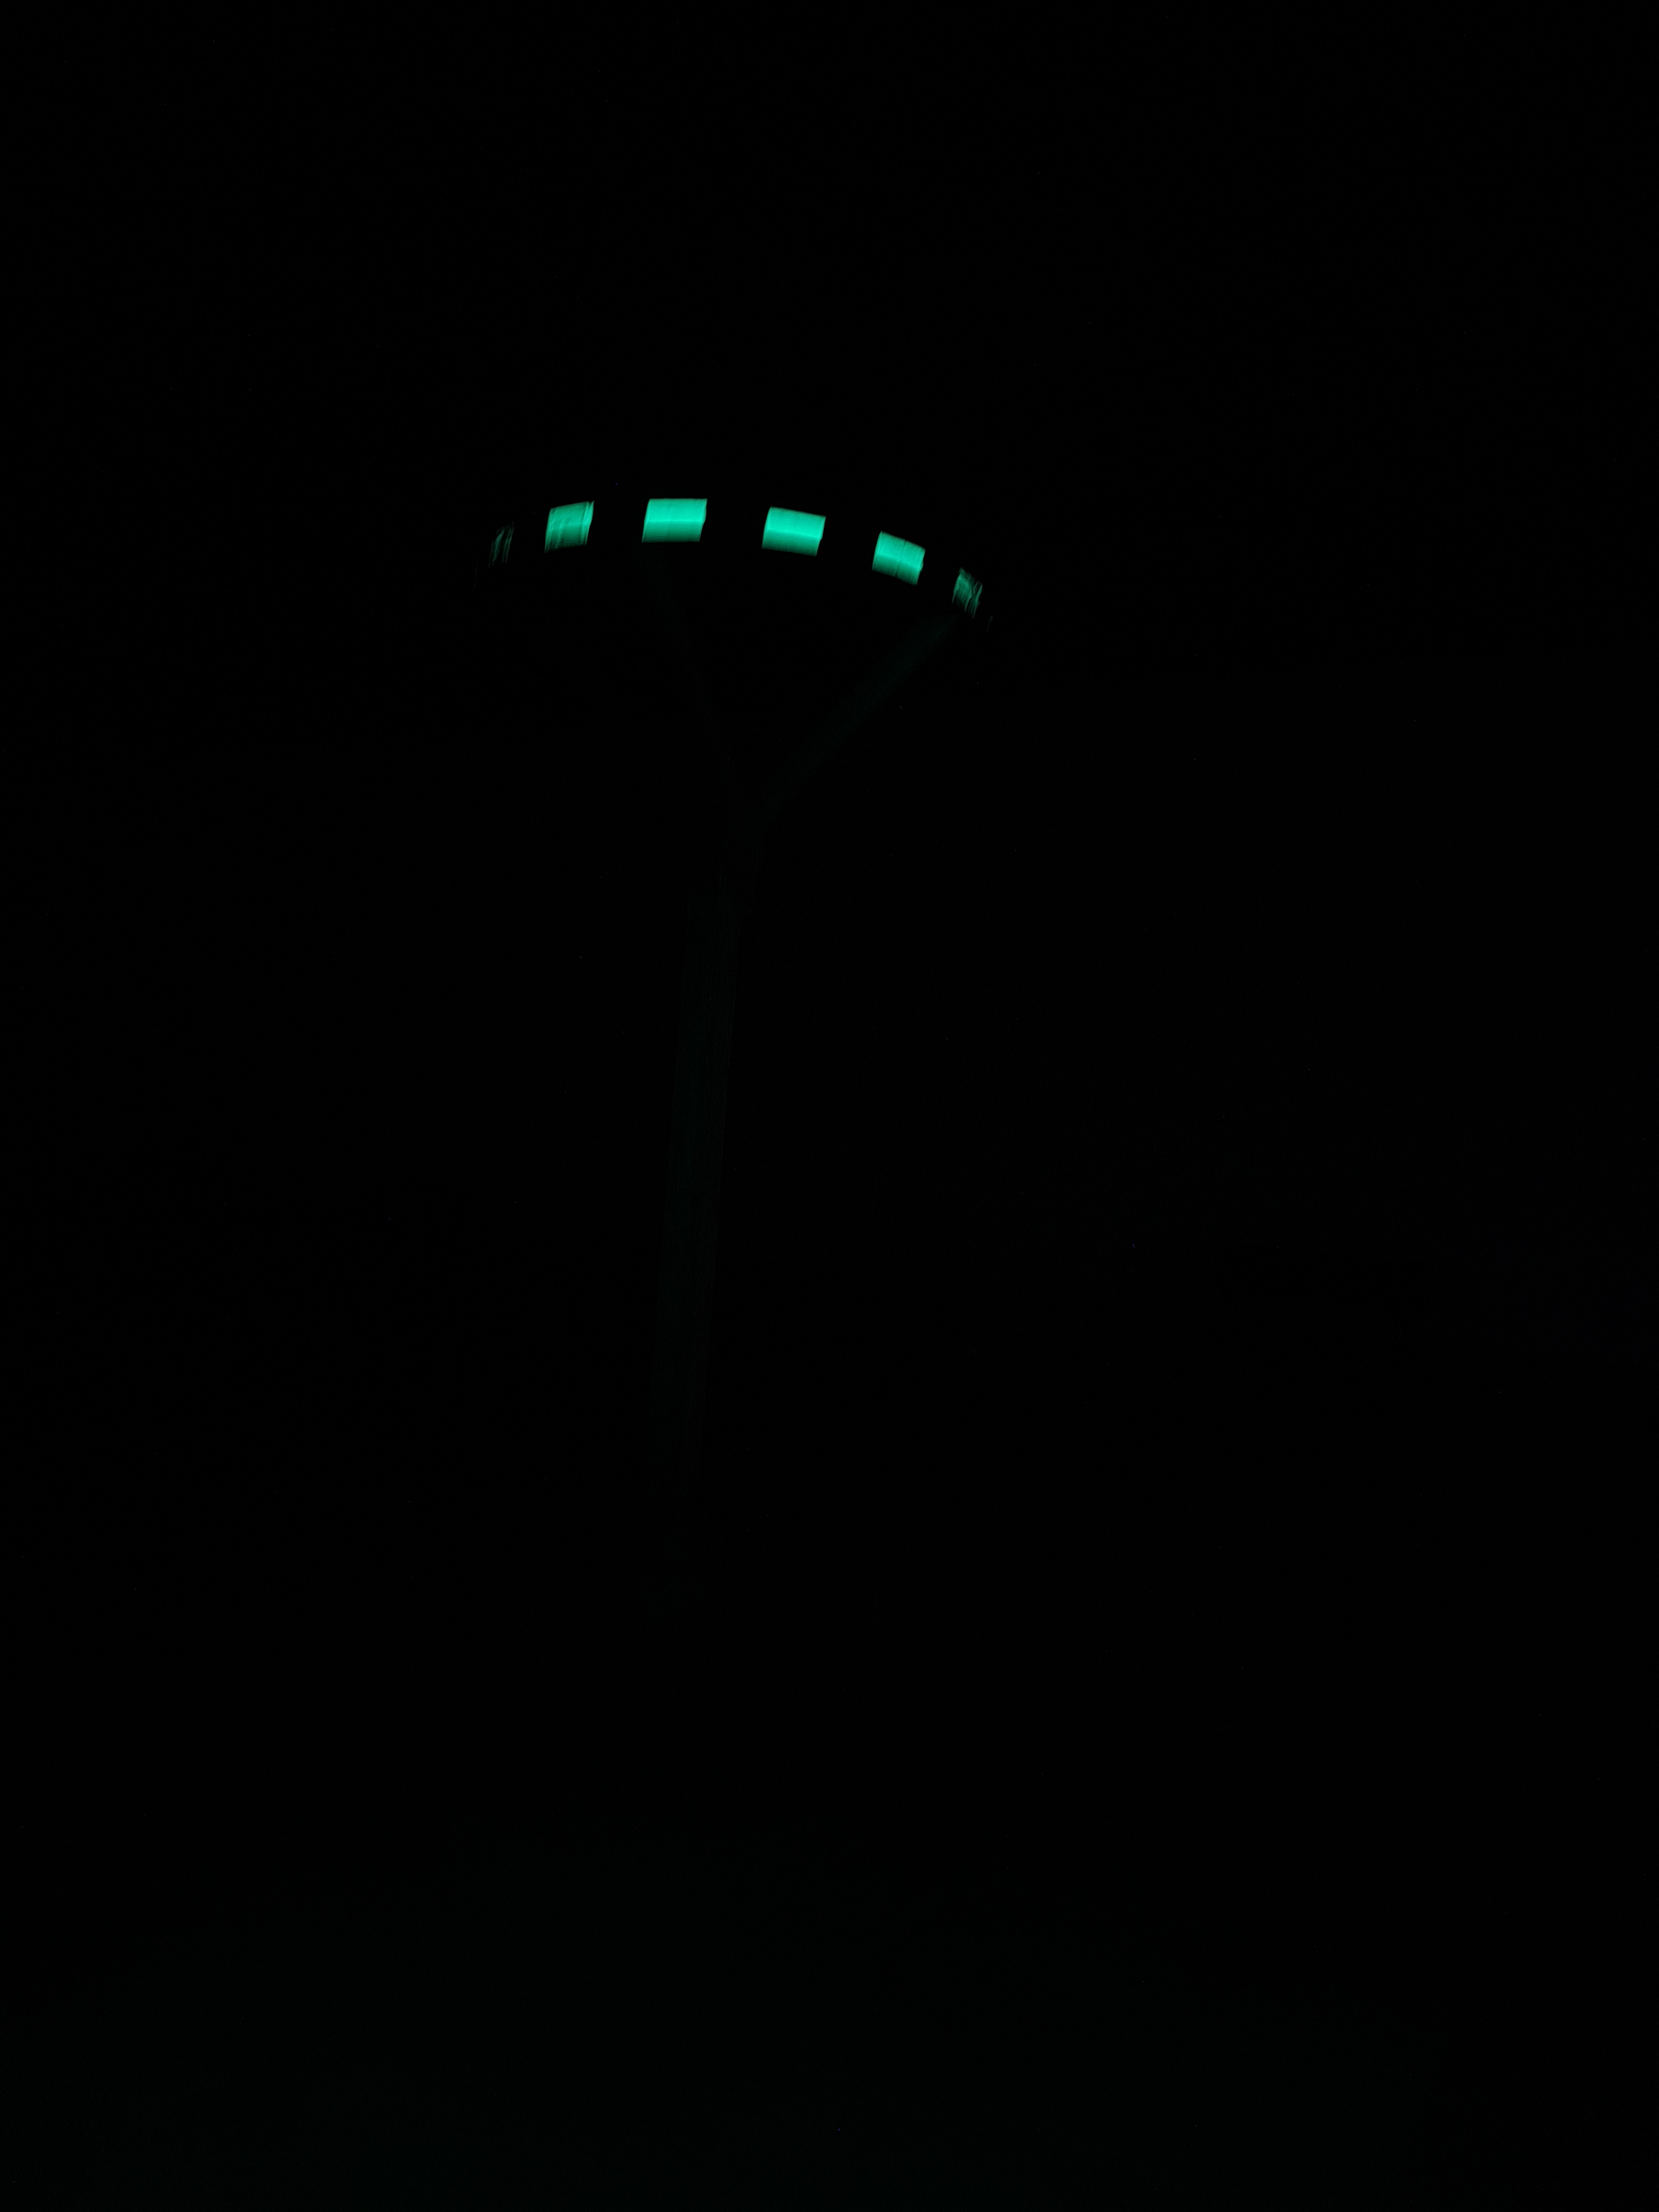hoop: (483, 498, 995, 622)
